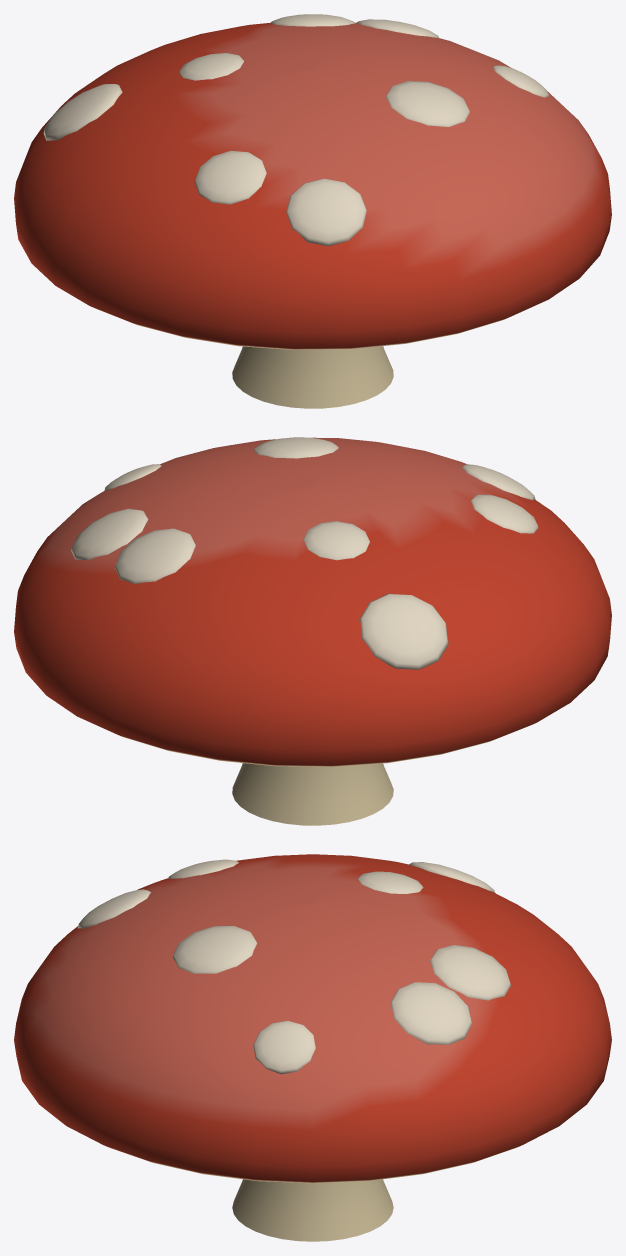
The model's file is mushroom-pad.obj.
3 renders of one model, top to bottom at view 1: azimuth 30°, elevation 25°; view 2: azimuth 150°, elevation 25°; view 3: azimuth 270°, elevation 25°, orthographic.
Parts seen in each view (by area): view 1: mushroom; view 2: mushroom; view 3: mushroom.
Boxes of the visible parts, x1,y1,x2,y2 form: mushroom: [14, 14, 611, 408]; mushroom: [14, 437, 611, 825]; mushroom: [14, 854, 611, 1241].
Size of the model in its own units: 580 by 325 by 580.
